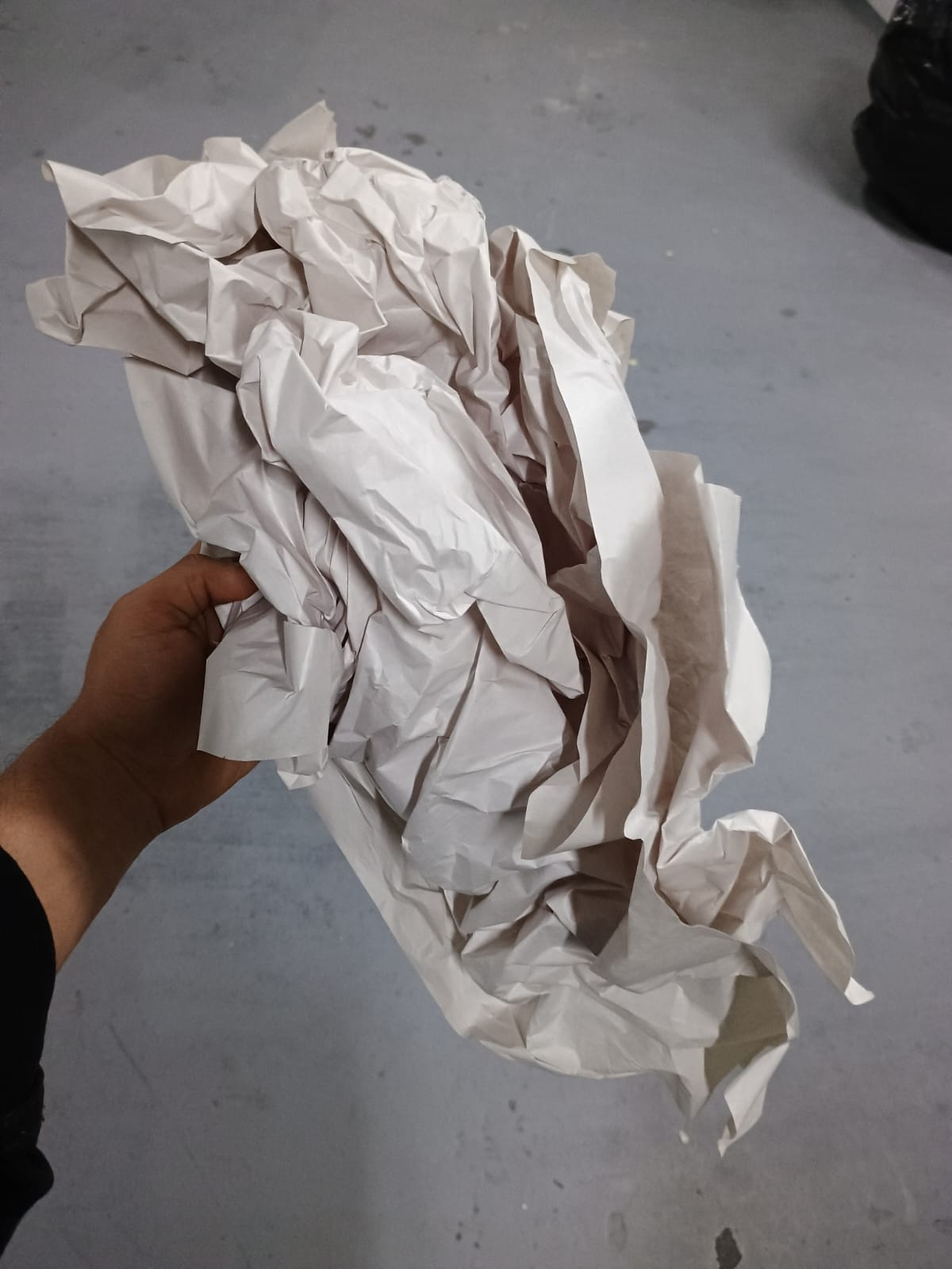Papel: (21, 99, 878, 1157)
